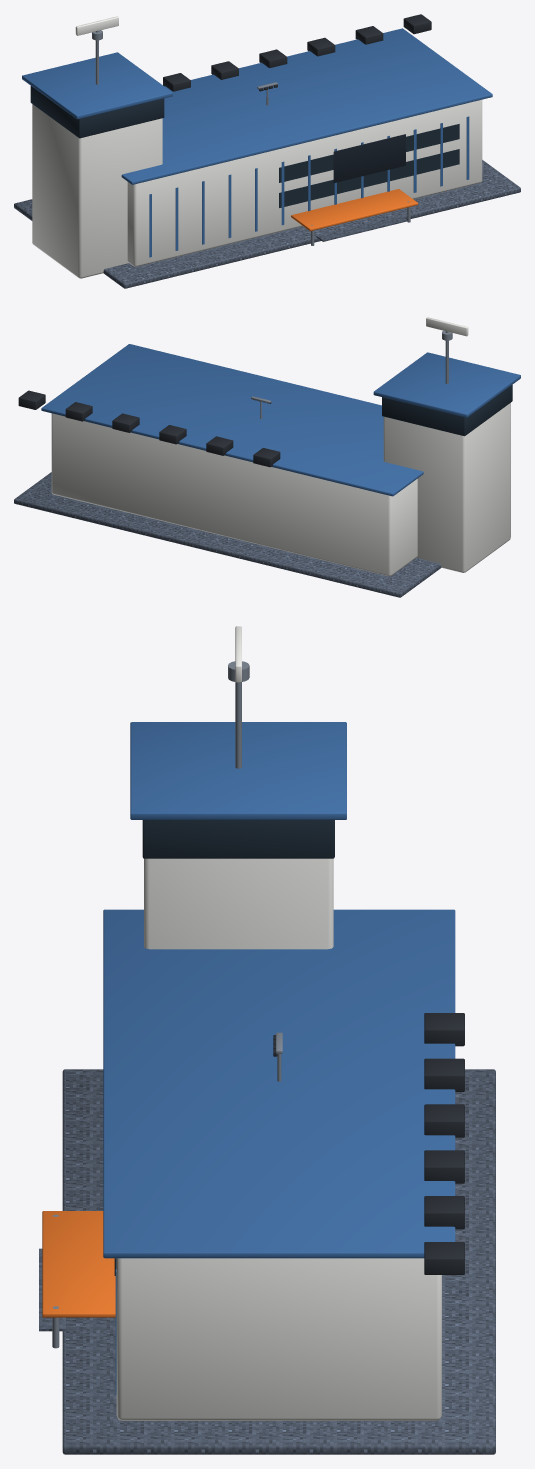
File: site.glb
3 views of the same model, one above another, from view 1: azimuth 30°, elevation 25°; view 2: azimuth 150°, elevation 25°; view 3: azimuth 270°, elevation 25° (orthographic). The views are drawn at different scales.
Parts seen in each view (by area): view 1: control_center_body, control_center_screens, control_center_radar; view 2: control_center_body, control_center_radar; view 3: control_center_body.
Boxes of the visible parts, x1,y1,x2,y2 form: control_center_body: [14, 14, 520, 288]; control_center_screens: [333, 134, 405, 182]; control_center_radar: [75, 16, 118, 40]; control_center_body: [14, 331, 520, 597]; control_center_radar: [426, 317, 468, 340]; control_center_body: [39, 682, 495, 1454].
Size of the model in its own units: 71.5 by 38.9 by 33.75.
22 materials, 1 textured.
